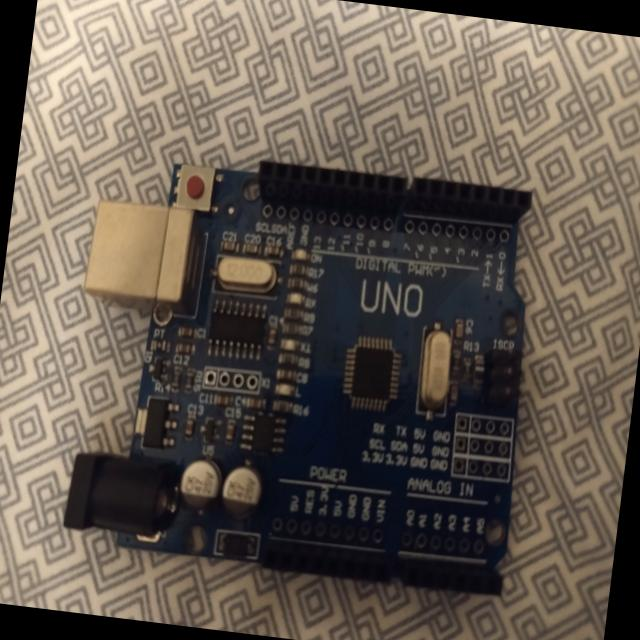arduino: (41, 125, 566, 619)
